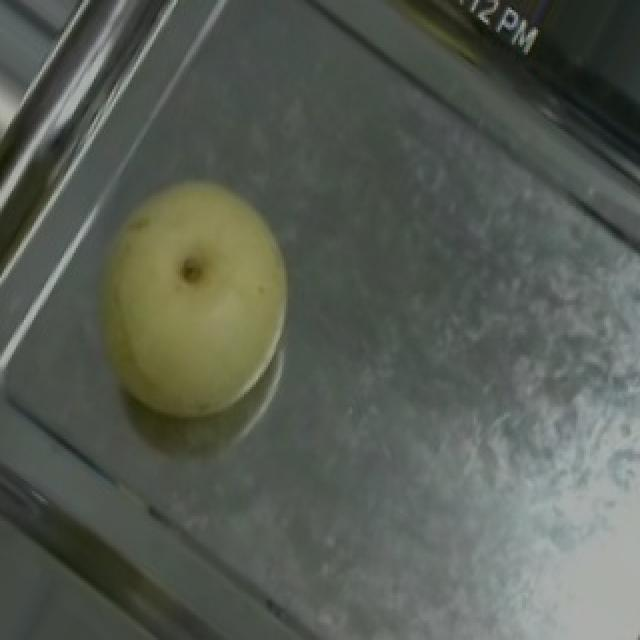Fruit: (50, 136, 336, 456)
